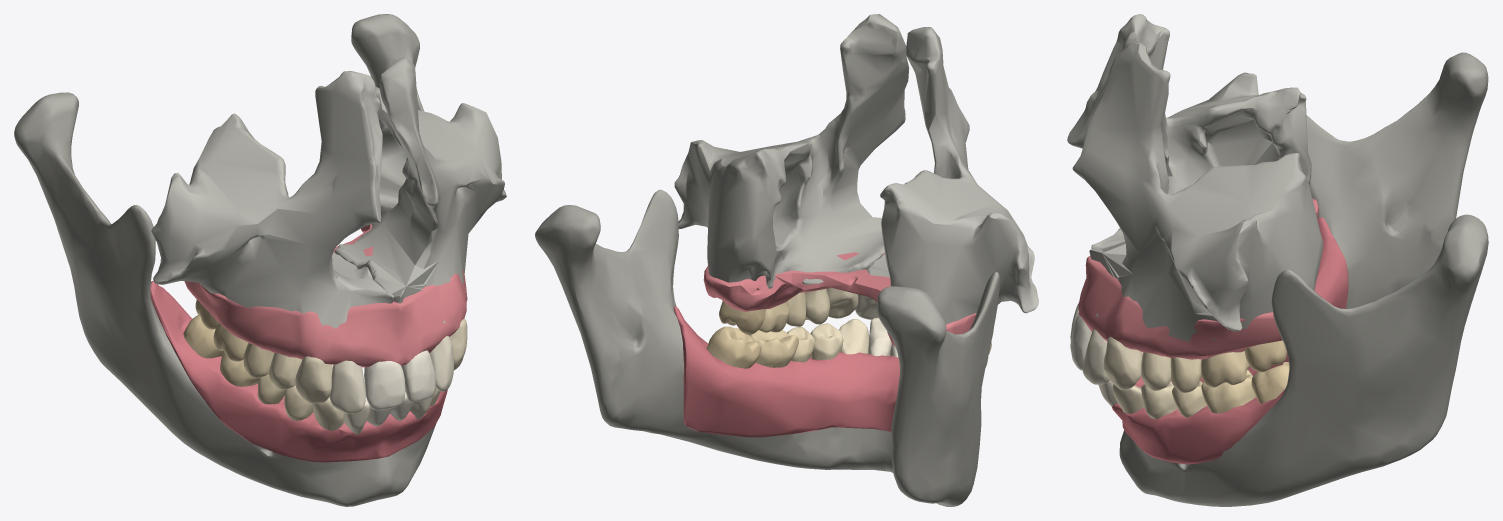
File: teeth.glb
3 views of the same model, side by side, from view 1: azimuth 30°, elevation 25°; view 2: azimuth 150°, elevation 25°; view 3: azimuth 270°, elevation 25° (orthographic). The views are drawn at different scales.
Visible parts, largest first — view 1: right-maxilla, mandible, left-maxilla, upper-gum, lower-gum, upper-right-central-incisor, upper-right-lateral-incisor, upper-right-canine, upper-left-central-incisor, lower-right-second-molar, upper-left-lateral-incisor, upper-right-first-premolar (+7 smaller); view 2: mandible, left-maxilla, right-maxilla, lower-gum, upper-gum, lower-left-second-molar, lower-left-first-molar, lower-left-first-premolar, upper-left-second-molar, lower-left-canine, upper-left-canine, upper-left-first-premolar (+4 smaller); view 3: mandible, left-maxilla, right-maxilla, lower-gum, upper-gum, upper-left-canine, upper-left-first-molar, lower-left-first-molar, lower-left-second-molar, upper-left-lateral-incisor, upper-left-first-premolar, upper-left-second-molar (+5 smaller).
Part boxes in pixels (x1,y1,x2,y2): right-maxilla: (151, 71, 394, 328); mandible: (14, 14, 436, 506); left-maxilla: (334, 57, 506, 322); upper-gum: (184, 224, 467, 367); lower-gum: (150, 281, 447, 462); upper-right-central-incisor: (364, 361, 405, 410); upper-right-lateral-incisor: (329, 360, 365, 413); upper-right-canine: (295, 356, 332, 403); upper-left-central-incisor: (401, 350, 435, 401); lower-right-second-molar: (183, 315, 222, 358); upper-left-lateral-incisor: (429, 336, 453, 391); upper-right-first-premolar: (269, 353, 301, 389); mandible: (535, 189, 999, 506); left-maxilla: (674, 14, 909, 288); right-maxilla: (866, 27, 1038, 324); lower-gum: (673, 306, 899, 437); upper-gum: (703, 252, 976, 345); lower-left-second-molar: (706, 326, 761, 368); lower-left-first-molar: (749, 330, 798, 367); lower-left-first-premolar: (810, 323, 843, 359); upper-left-second-molar: (719, 301, 765, 334); lower-left-canine: (839, 319, 869, 354); upper-left-canine: (827, 288, 858, 318); upper-left-first-premolar: (805, 288, 829, 324); mandible: (1119, 52, 1488, 506); left-maxilla: (1072, 41, 1323, 342); right-maxilla: (1067, 14, 1311, 249); lower-gum: (1112, 217, 1348, 464); upper-gum: (1078, 198, 1318, 359); upper-left-canine: (1103, 336, 1142, 389); upper-left-first-molar: (1201, 351, 1250, 387); lower-left-first-molar: (1201, 369, 1256, 413); lower-left-second-molar: (1251, 362, 1289, 403); upper-left-lateral-incisor: (1082, 329, 1109, 384); upper-left-first-premolar: (1141, 352, 1170, 390); upper-left-second-molar: (1244, 340, 1286, 372).
Size of the model in its own units: 2.66 by 2.79 by 2.35.
